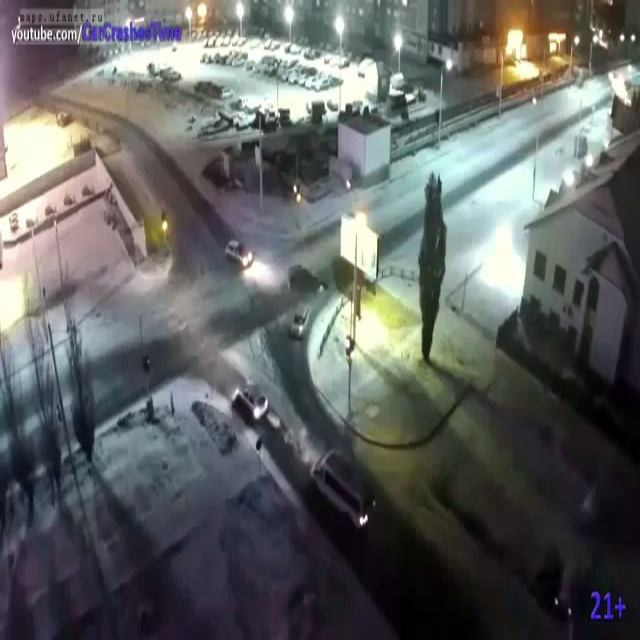acc: (216, 234, 330, 298)
